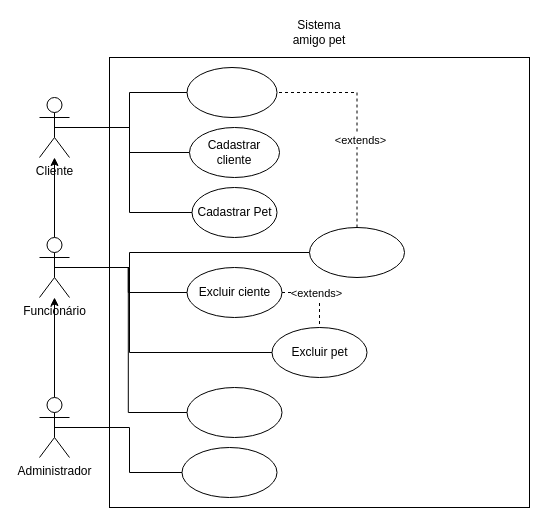
The diagram is 547 pixels wide and 525 high, and some of its shapes have lost their labels. The shapes that lost their labels are listed below. From the top down, each one's centre as x and y in pixels, then its label:
point (231, 92): Agendar horário
point (356, 252): Acessar dados dos clientes
point (234, 412): Excluir agendamento
point (229, 472): Cadastrar funcionários
